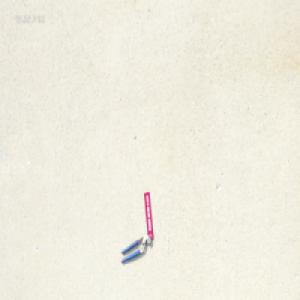Label: (143, 191, 153, 240)
Pliers: (120, 234, 151, 264)
